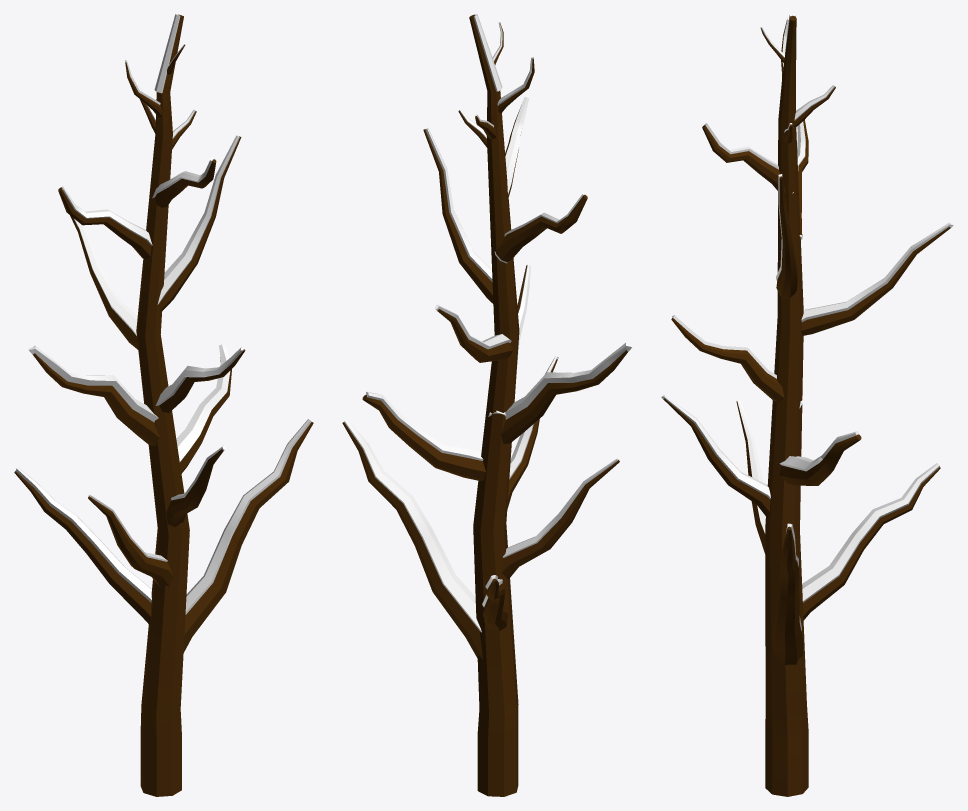
Rendered from christmasDeadTree2.dae.
The picture shows the model from 3 angles, left to right: view 1: azimuth 30°, elevation 25°; view 2: azimuth 150°, elevation 25°; view 3: azimuth 270°, elevation 25°; orthographic projection. The views are drawn at different scales.
Parts seen in each view (by area): view 1: Dead_tree_two; view 2: Dead_tree_two; view 3: Dead_tree_two.
Part boxes in pixels (x1,y1,x2,y2): Dead_tree_two: (14, 14, 313, 796); Dead_tree_two: (342, 14, 632, 796); Dead_tree_two: (661, 14, 953, 796).
Size of the model in its own units: 0.0362 by 0.0313 by 0.0925.
